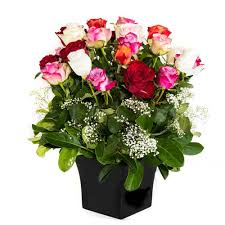lale: (123, 62, 158, 107), (33, 57, 70, 96), (81, 67, 118, 106), (152, 65, 187, 99)
